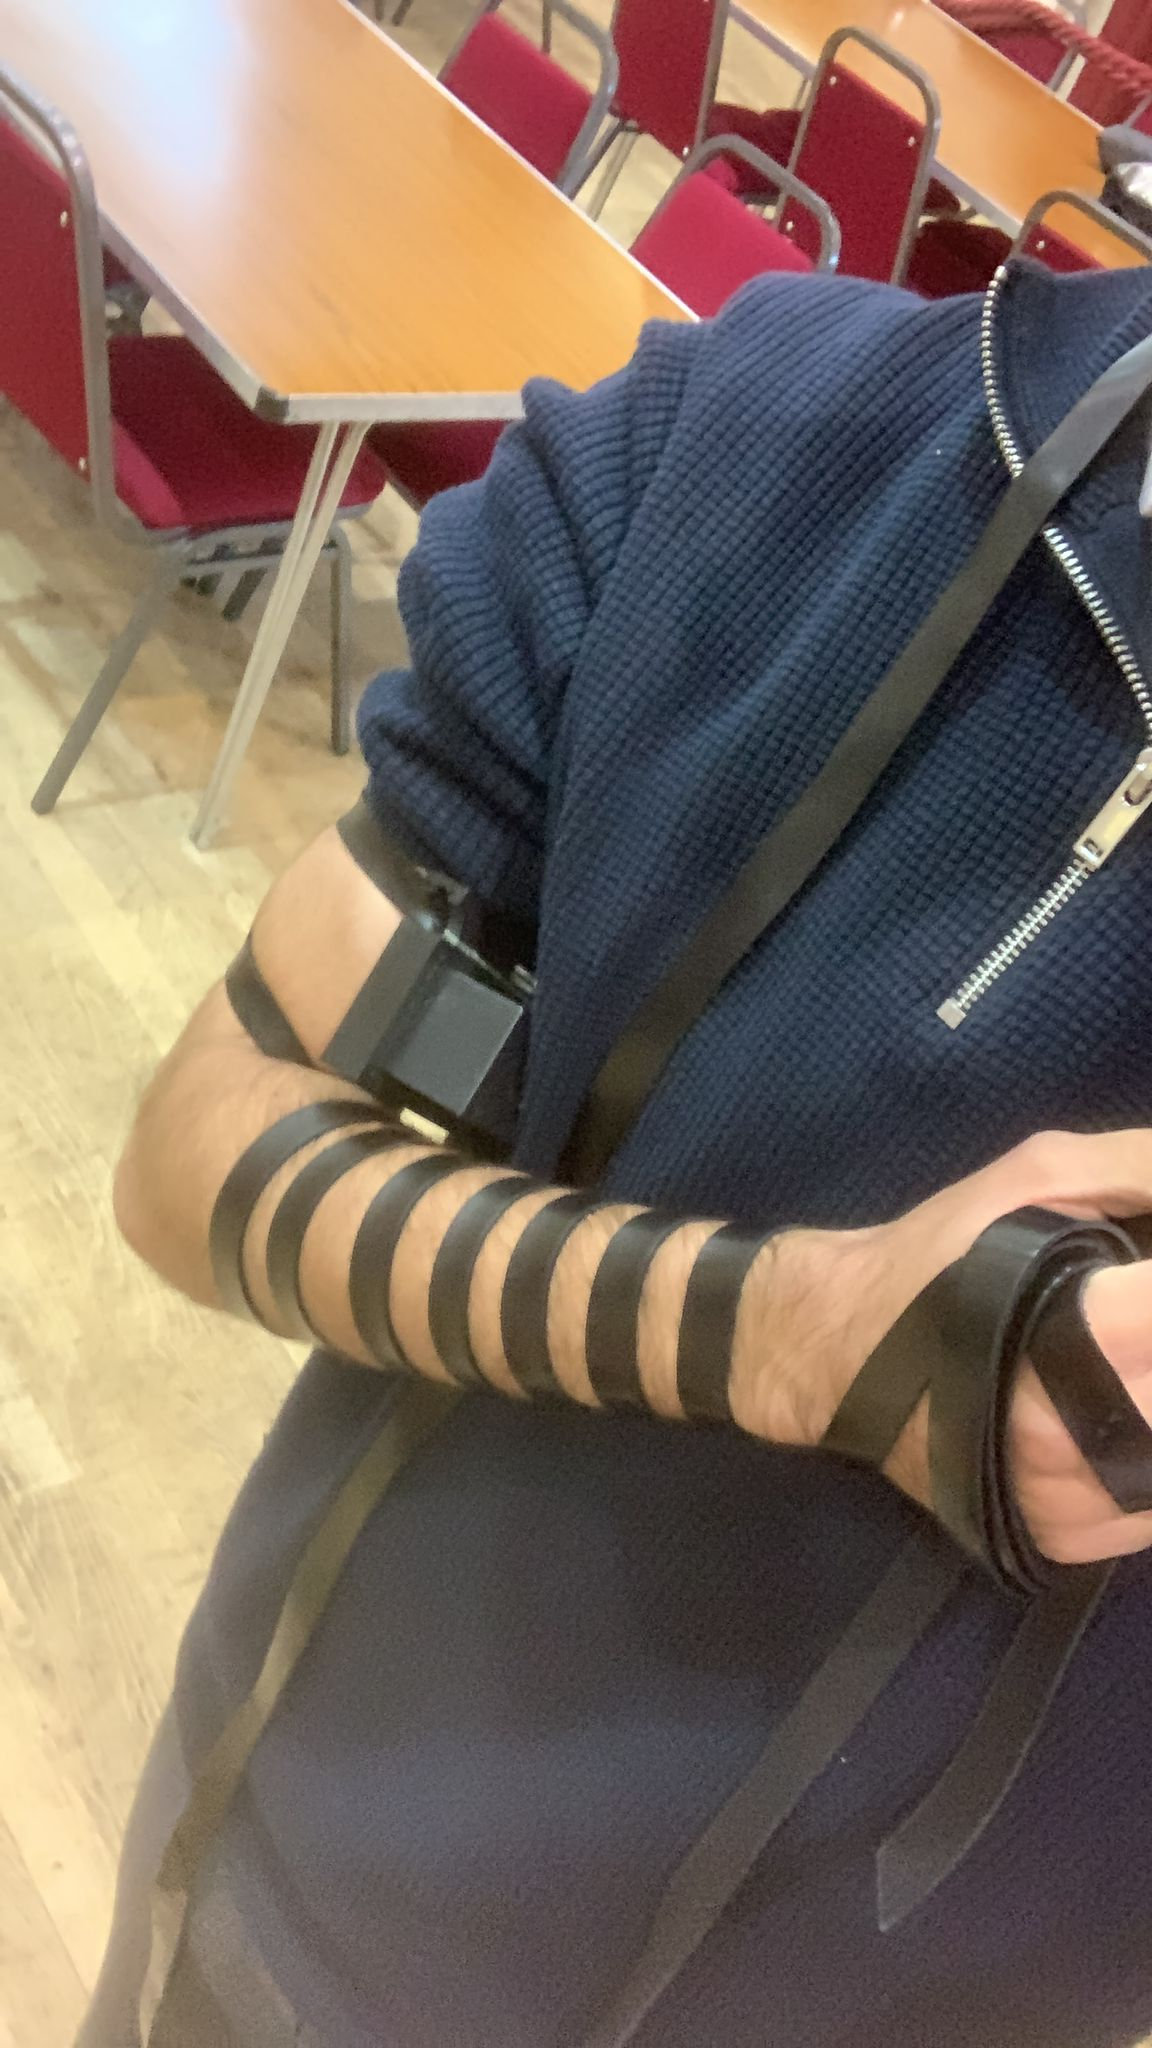tefillin: (324, 866, 536, 1139)
